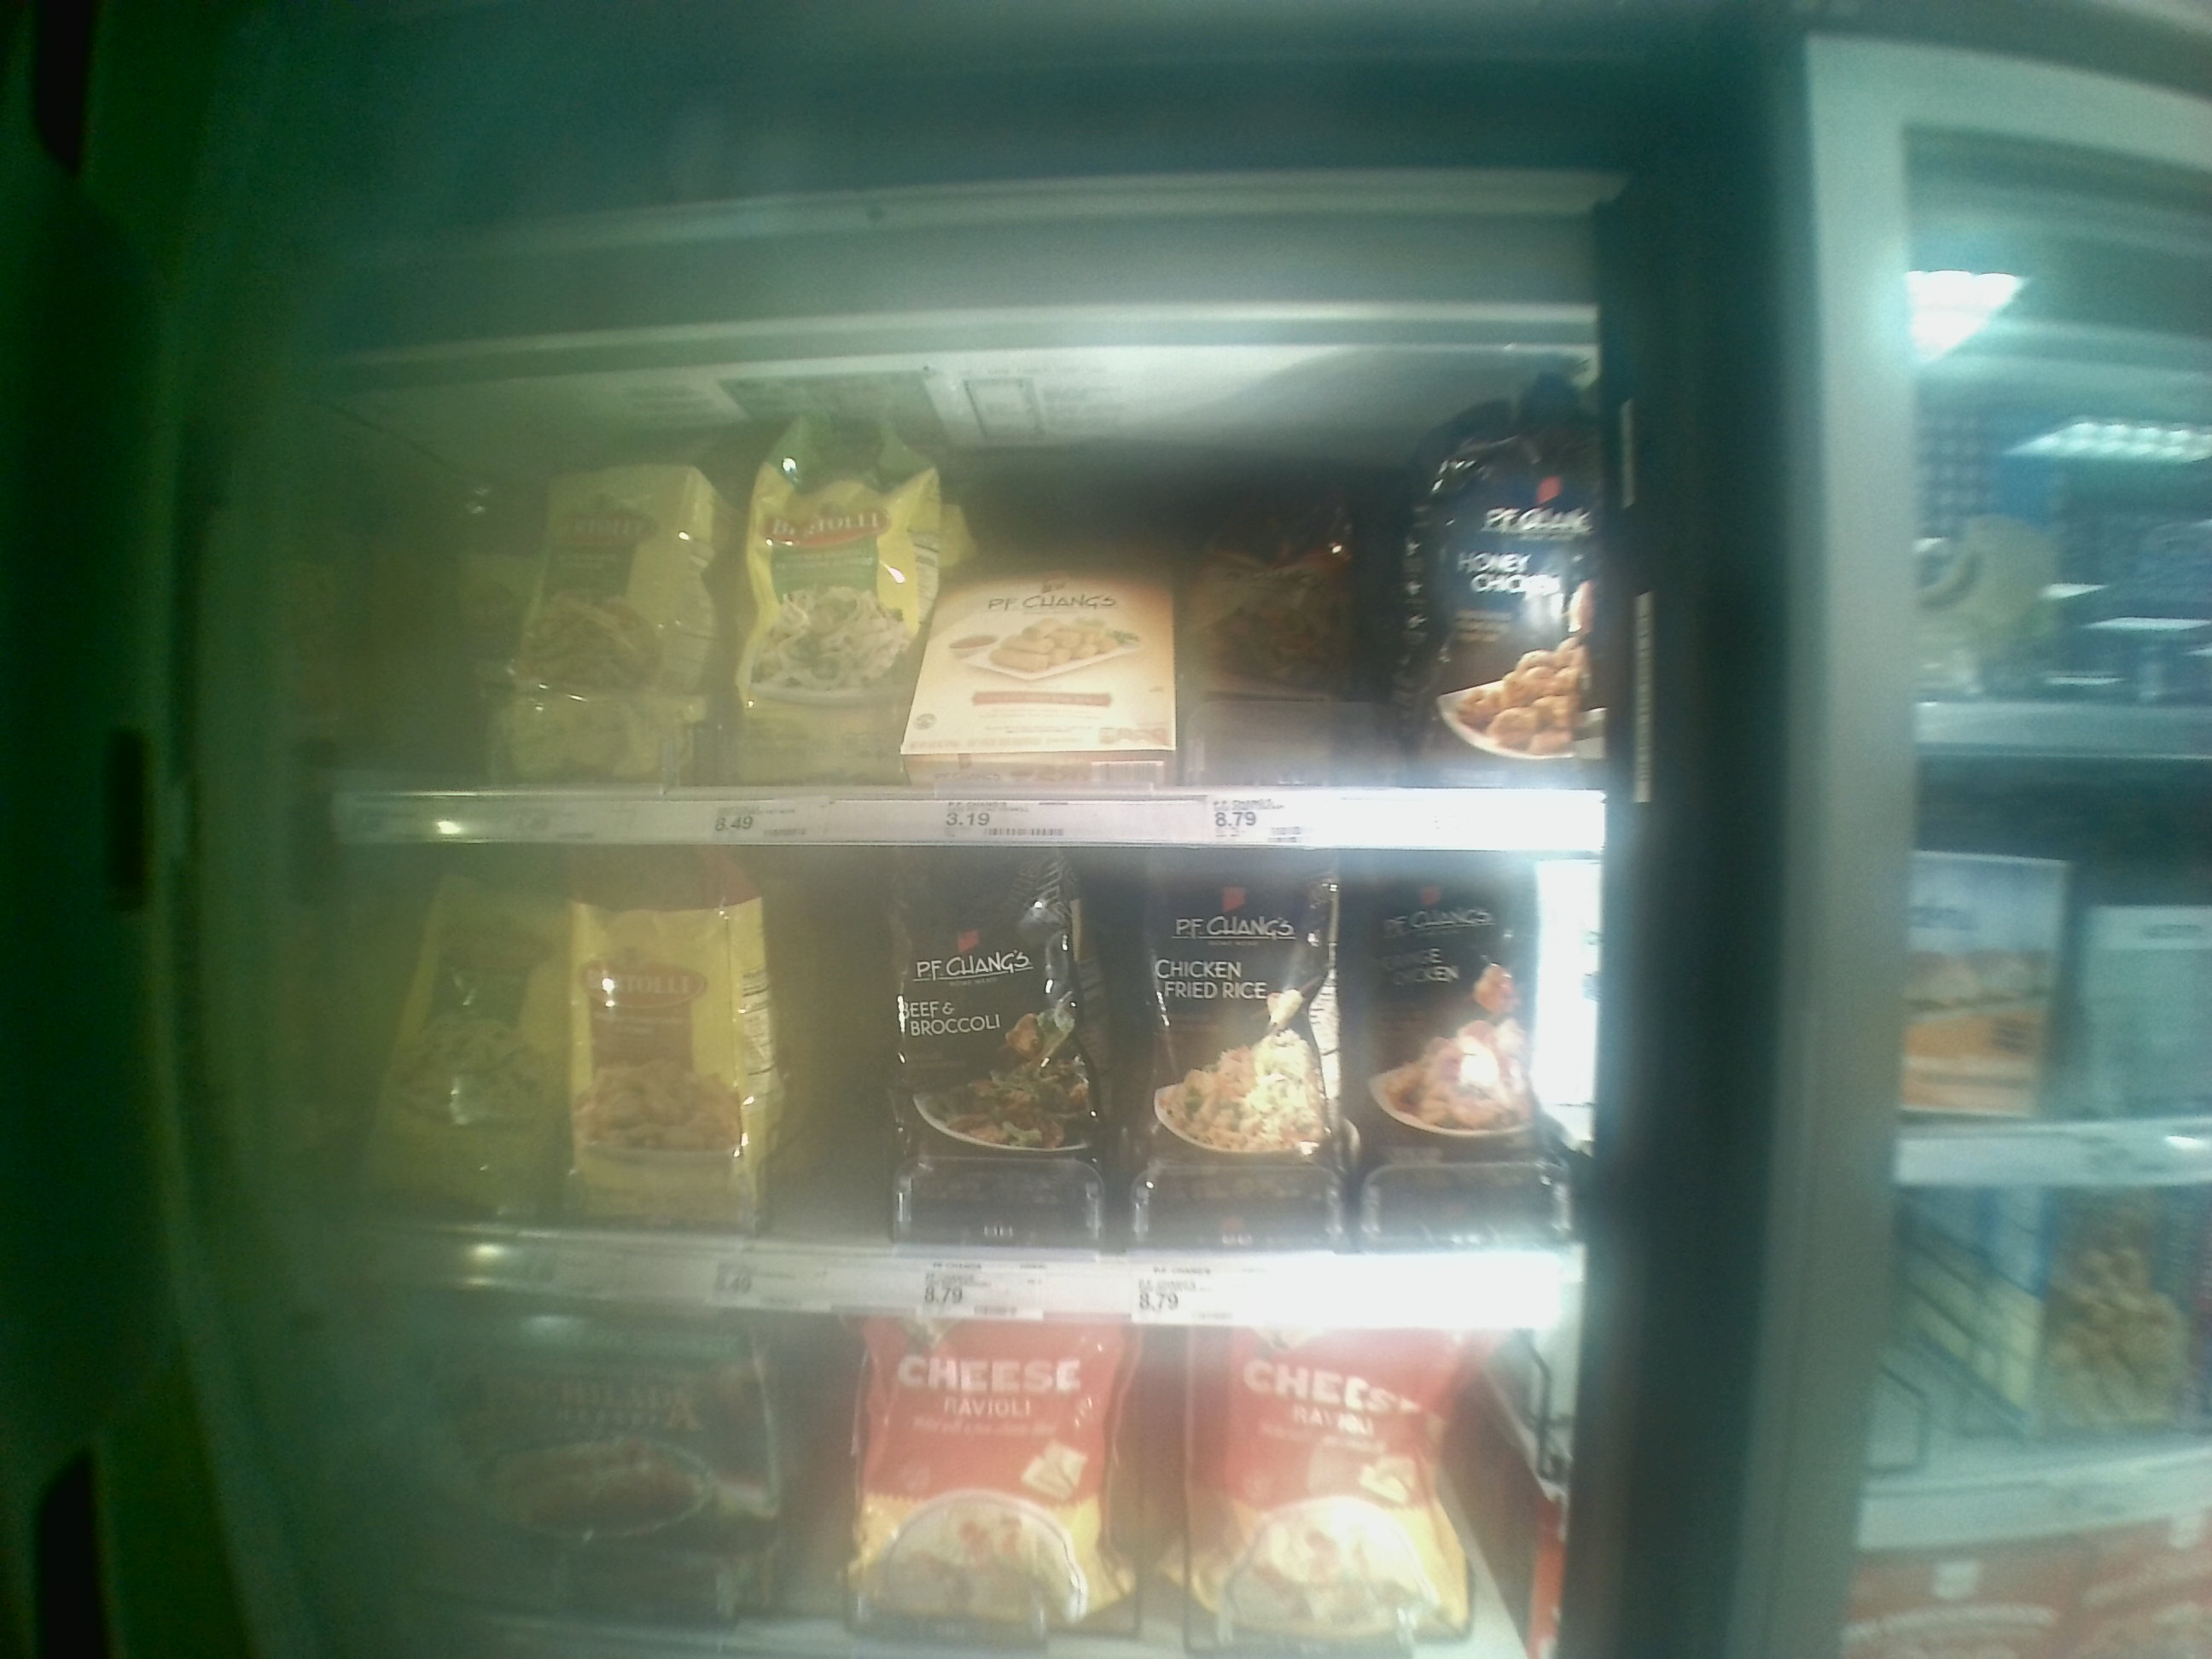shelf: (331, 354, 1599, 847), (347, 836, 1611, 1298)
